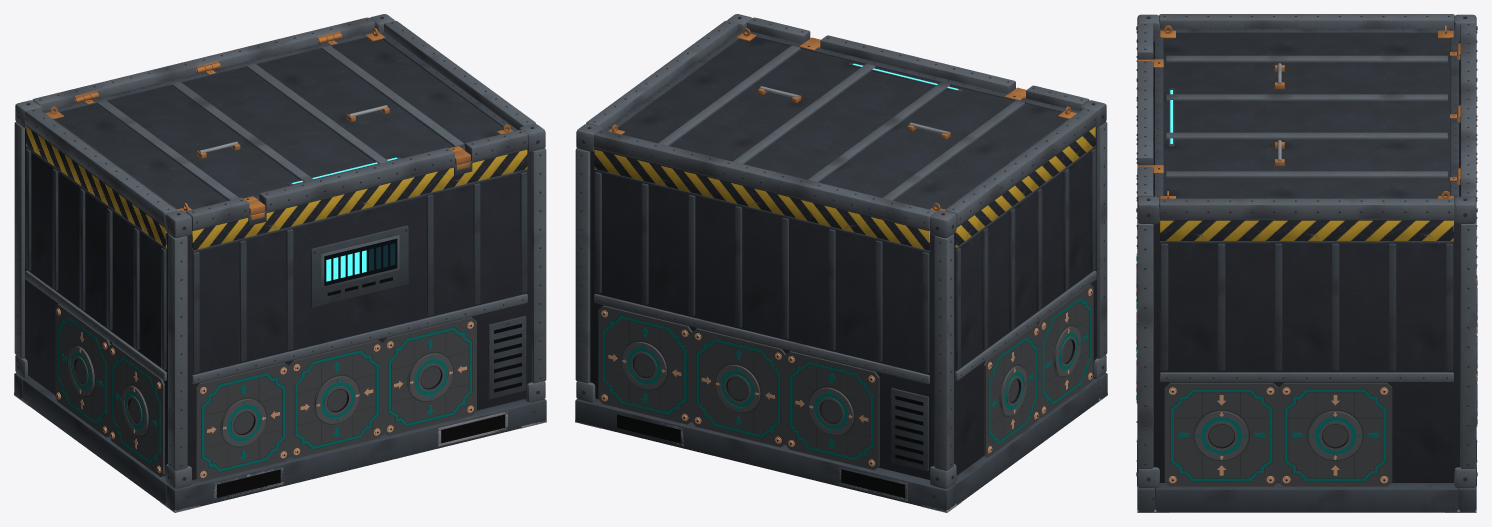
The model's file is cargo_chest.glb.
The picture shows the model from 3 angles, left to right: view 1: azimuth 30°, elevation 25°; view 2: azimuth 150°, elevation 25°; view 3: azimuth 270°, elevation 25°; orthographic projection. The views are drawn at different scales.
Parts seen in each view (by area): view 1: Body.003, Lid.003, IOPortFront0_face, IOPortFront2_face, IOPortFront1_face, IOPortLeft0_face, IOPortLeft1_face; view 2: Body.003, Lid.003, IOPortBack2_face, IOPortBack0_face, IOPortBack1_face, IOPortLeft1_face, IOPortLeft0_face; view 3: Body.003, Lid.003, IOPortRight0_face, IOPortRight1_face.
Part boxes in pixels (x1,y1,x2,y2): Body.003: (14,14,546,512); Lid.003: (42,28,517,220); IOPortFront0_face: (195,362,289,481); IOPortFront2_face: (383,317,476,435); IOPortFront1_face: (289,339,383,458); IOPortLeft0_face: (109,343,164,476); IOPortLeft1_face: (55,304,110,437); Body.003: (575,14,1107,512); Lid.003: (604,28,1079,211); IOPortBack2_face: (785,351,879,470); IOPortBack0_face: (598,305,692,424); IOPortBack1_face: (691,328,785,447); IOPortLeft1_face: (984,323,1039,457); IOPortLeft0_face: (1038,284,1093,417); Body.003: (1136,14,1477,512); Lid.003: (1137,25,1460,198); IOPortRight0_face: (1164,382,1278,486); IOPortRight1_face: (1278,382,1392,486).
Size of the model in its own units: 2 by 1.5 by 1.5.
Materials: 18 (8 with a texture image).
